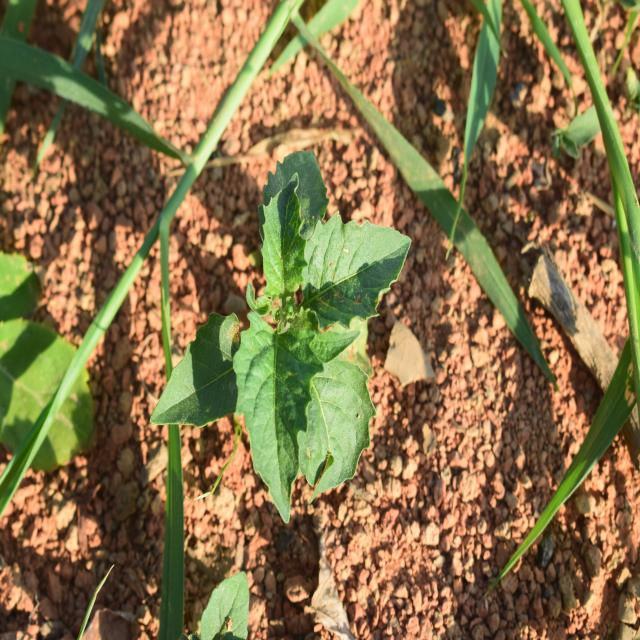Black_nightshade: (174, 163, 390, 507)
